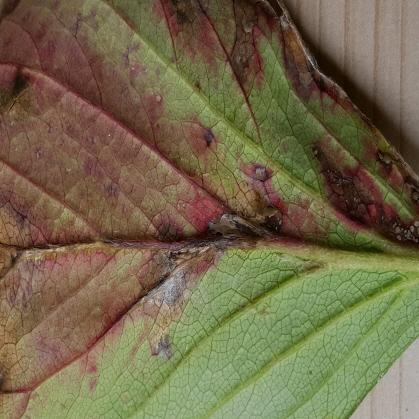Angular Leafspot: (0, 0, 418, 418)
